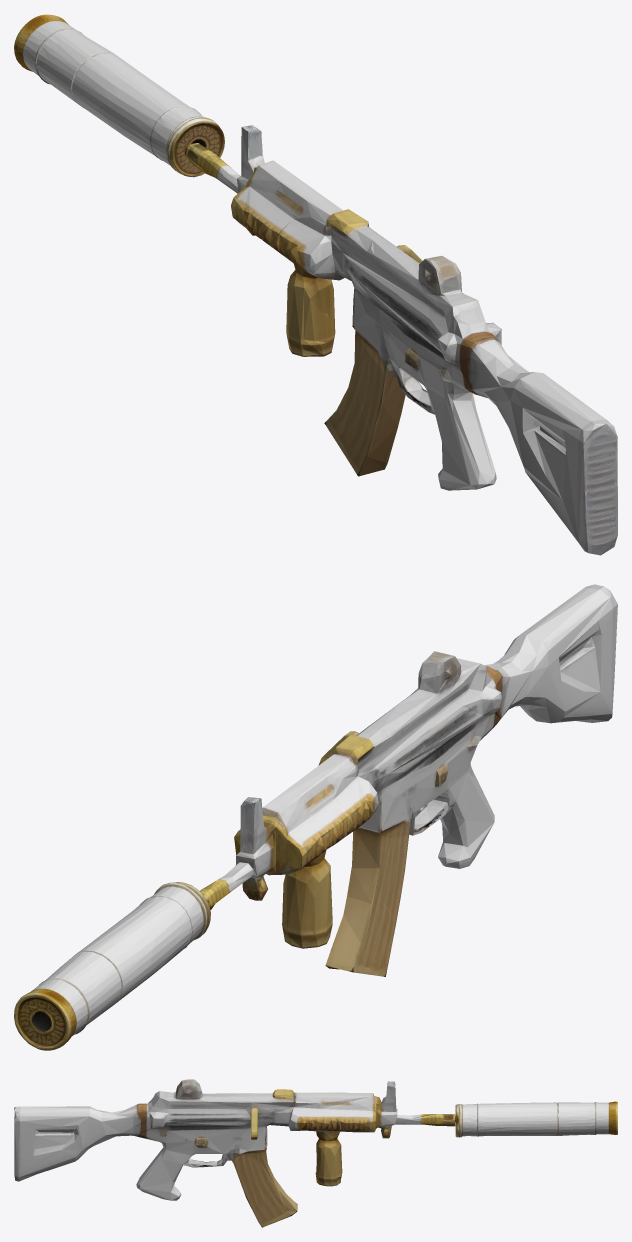
Rendered from white_mp5k_suppressed.glb.
3 renders of one model, top to bottom at view 1: azimuth 30°, elevation 25°; view 2: azimuth 150°, elevation 25°; view 3: azimuth 270°, elevation 25°, orthographic. The views are drawn at different scales.
Visible parts, largest first — view 1: white_mp5k_suppressed; view 2: white_mp5k_suppressed; view 3: white_mp5k_suppressed.
Part boxes in pixels (left/top/right/bottom): white_mp5k_suppressed: left=14, top=14, right=617, bottom=555; white_mp5k_suppressed: left=14, top=584, right=617, bottom=1050; white_mp5k_suppressed: left=14, top=1079, right=617, bottom=1227.
Size of the model in its own units: 0.0748 by 0.1974 by 0.7558.
Materials: 2 (2 with a texture image).
